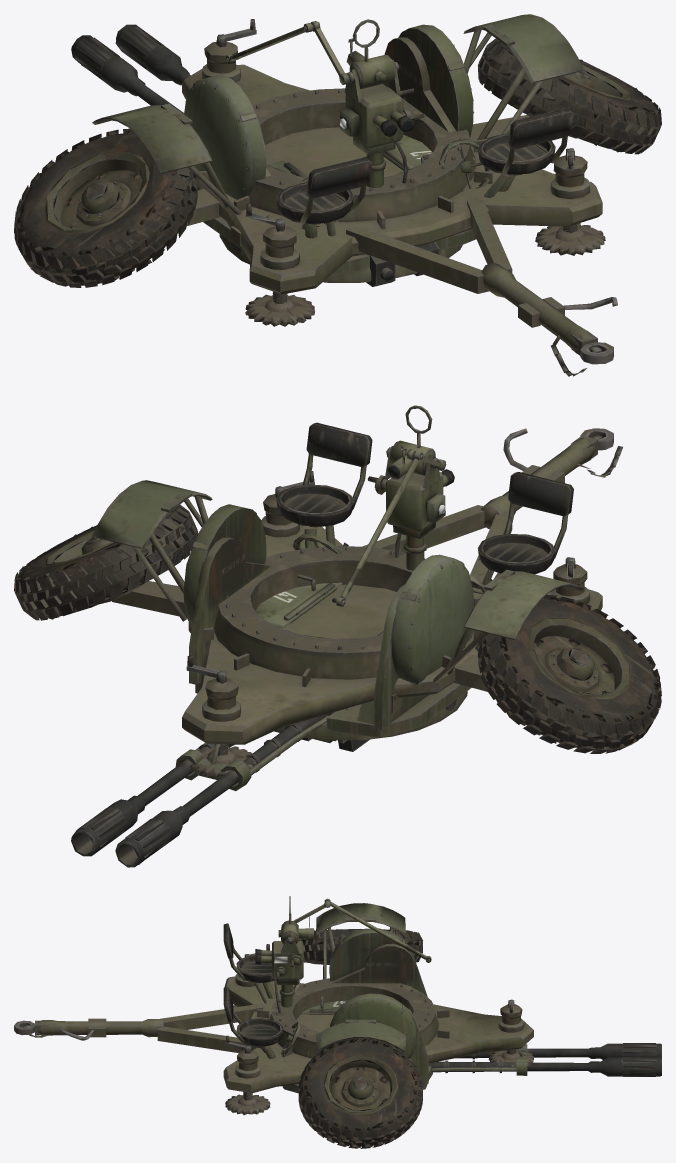
3 renders of one model, top to bottom at view 1: azimuth 30°, elevation 25°; view 2: azimuth 150°, elevation 25°; view 3: azimuth 270°, elevation 25°, orthographic. The views are drawn at different scales.
Visible parts, largest first — view 1: body|ZU_H, body|ZU_R, turret|ZU_K, turret|ZU_T, cradle|ZU_G; view 2: body|ZU_H, body|ZU_R, turret|ZU_T, turret|ZU_K, cradle|ZU_G; view 3: body|ZU_H, body|ZU_R, turret|ZU_T, turret|ZU_K, cradle|ZU_G.
Part boxes in pixels (<box>): body|ZU_H: <box>92,14,617,376</box>; body|ZU_R: <box>14,19,661,326</box>; turret|ZU_K: <box>225,19,573,255</box>; turret|ZU_T: <box>184,24,476,282</box>; cradle|ZU_G: <box>71,24,439,286</box>; body|ZU_H: <box>92,428,622,744</box>; body|ZU_R: <box>14,471,661,778</box>; turret|ZU_T: <box>183,504,474,740</box>; turret|ZU_K: <box>276,405,573,712</box>; cradle|ZU_G: <box>71,574,456,867</box>; body|ZU_H: <box>14,903,533,1093</box>; body|ZU_R: <box>225,929,533,1148</box>; turret|ZU_T: <box>282,928,432,1093</box>; turret|ZU_K: <box>223,896,431,1066</box>; cradle|ZU_G: <box>301,996,661,1076</box>.
Size of the model in its own units: 3.07 by 1.4 by 4.3.
Materials: 7 (5 with a texture image).
